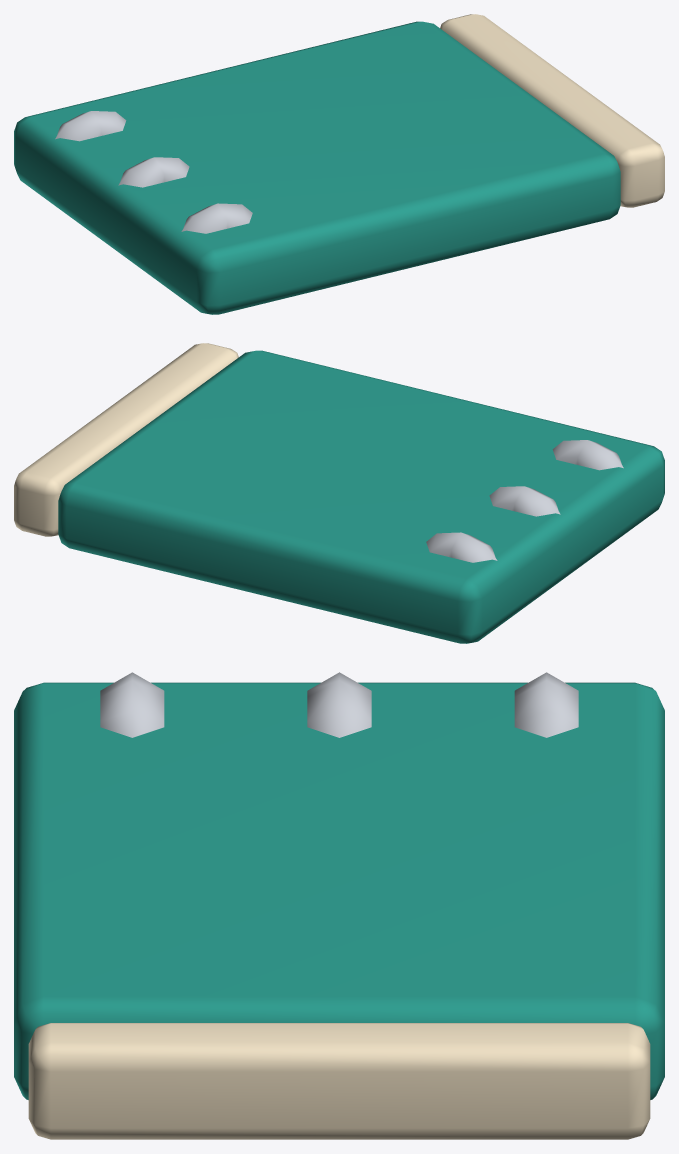
The model's file is Prop_Checklist.glb.
3 renders of one model, top to bottom at view 1: azimuth 30°, elevation 25°; view 2: azimuth 150°, elevation 25°; view 3: azimuth 270°, elevation 25°, orthographic. The views are drawn at different scales.
Parts seen in each view (by area): view 1: Prop_Checklist.Cover, Prop_Checklist.Pages, Prop_Checklist.Rings; view 2: Prop_Checklist.Cover, Prop_Checklist.Pages, Prop_Checklist.Rings; view 3: Prop_Checklist.Cover, Prop_Checklist.Pages, Prop_Checklist.Rings.
Part boxes in pixels (left/top/right/bottom): Prop_Checklist.Cover: left=14, top=21, right=620, bottom=314; Prop_Checklist.Pages: left=440, top=14, right=664, bottom=207; Prop_Checklist.Rings: left=55, top=111, right=252, bottom=233; Prop_Checklist.Cover: left=58, top=350, right=664, bottom=643; Prop_Checklist.Pages: left=14, top=343, right=238, bottom=536; Prop_Checklist.Rings: left=426, top=440, right=623, bottom=562; Prop_Checklist.Cover: left=14, top=682, right=664, bottom=1099; Prop_Checklist.Pages: left=28, top=1023, right=650, bottom=1139; Prop_Checklist.Rings: left=100, top=672, right=578, bottom=737.
Size of the model in its own units: 0.3 by 0.062 by 0.22.
Materials: 1 (1 with a texture image).
